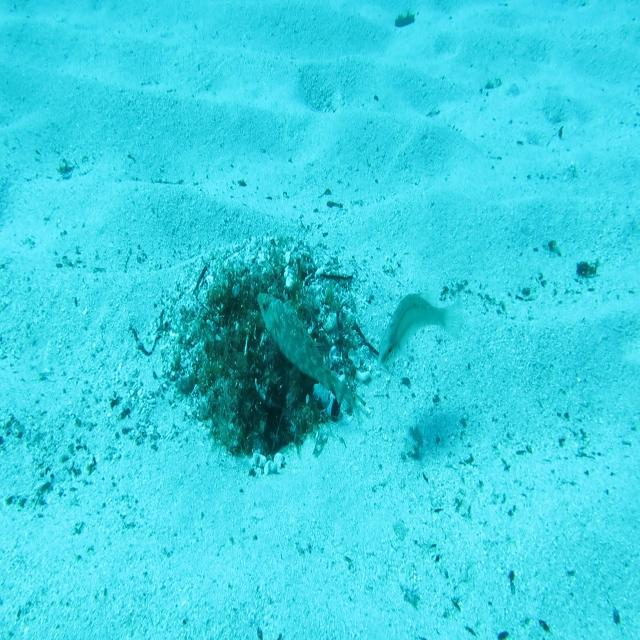FAN: (255, 288, 356, 420)
core_nest: (235, 289, 292, 322)
female: (375, 288, 466, 372)
nest: (153, 229, 374, 481)
vegetation: (391, 12, 417, 28)
